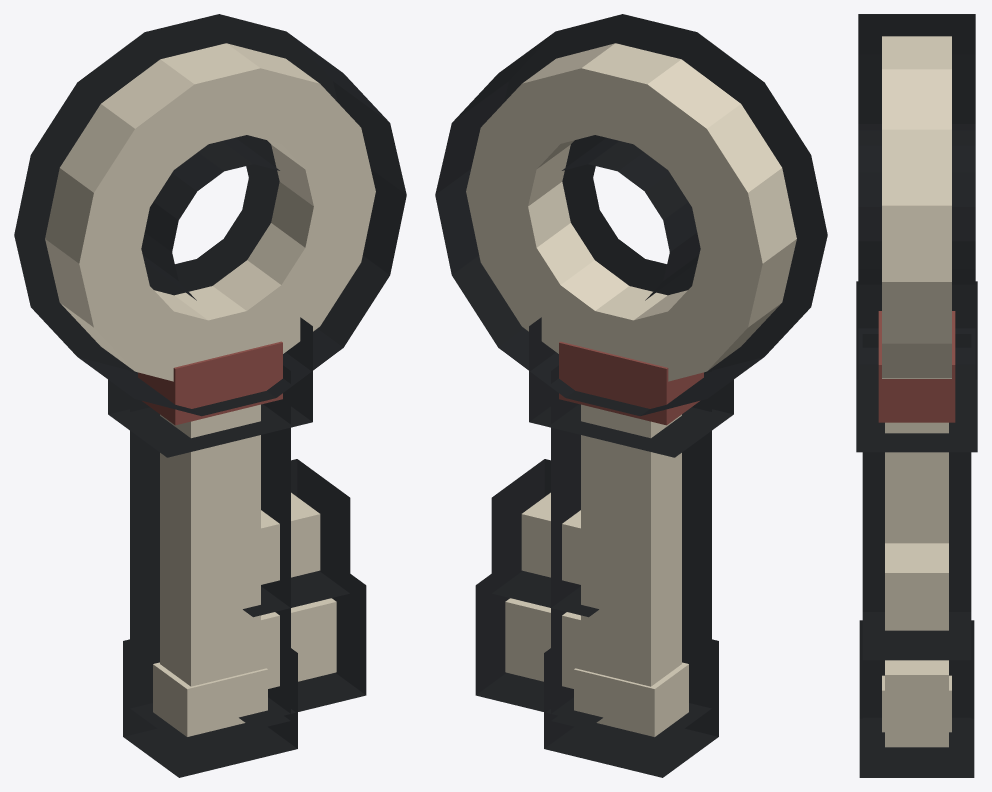
File: SM_Key_Collar.glb
The picture shows the model from 3 angles, left to right: view 1: azimuth 30°, elevation 25°; view 2: azimuth 150°, elevation 25°; view 3: azimuth 270°, elevation 25°; orthographic projection. The views are drawn at different scales.
Visible parts, largest first — view 1: SM_Key_Collar, SM_Key_Collar_Outline; view 2: SM_Key_Collar, SM_Key_Collar_Outline; view 3: SM_Key_Collar, SM_Key_Collar_Outline.
Boxes of the visible parts, x1,y1,x2,y2 form: SM_Key_Collar: (45,43,375,736); SM_Key_Collar_Outline: (14,14,406,777); SM_Key_Collar: (466,43,796,736); SM_Key_Collar_Outline: (435,14,827,777); SM_Key_Collar: (878,36,955,747); SM_Key_Collar_Outline: (856,14,977,777).
Size of the model in its own units: 0.1244 by 0.2476 by 0.038.
2 materials, 1 textured.
